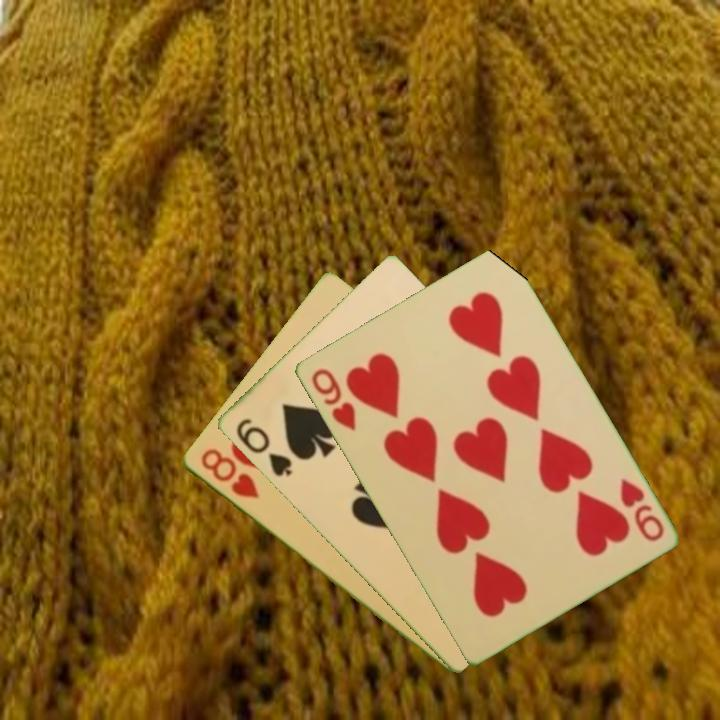6s: (231, 415, 295, 480)
8h: (196, 445, 262, 502)
9h: (307, 364, 359, 434), (616, 474, 667, 545)
